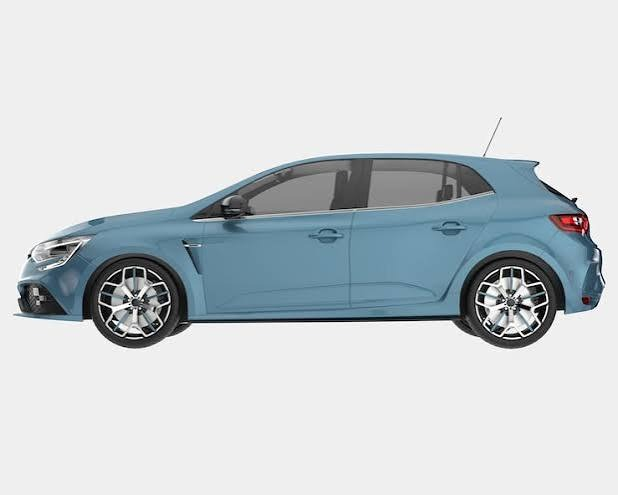car: (8, 150, 613, 347)
